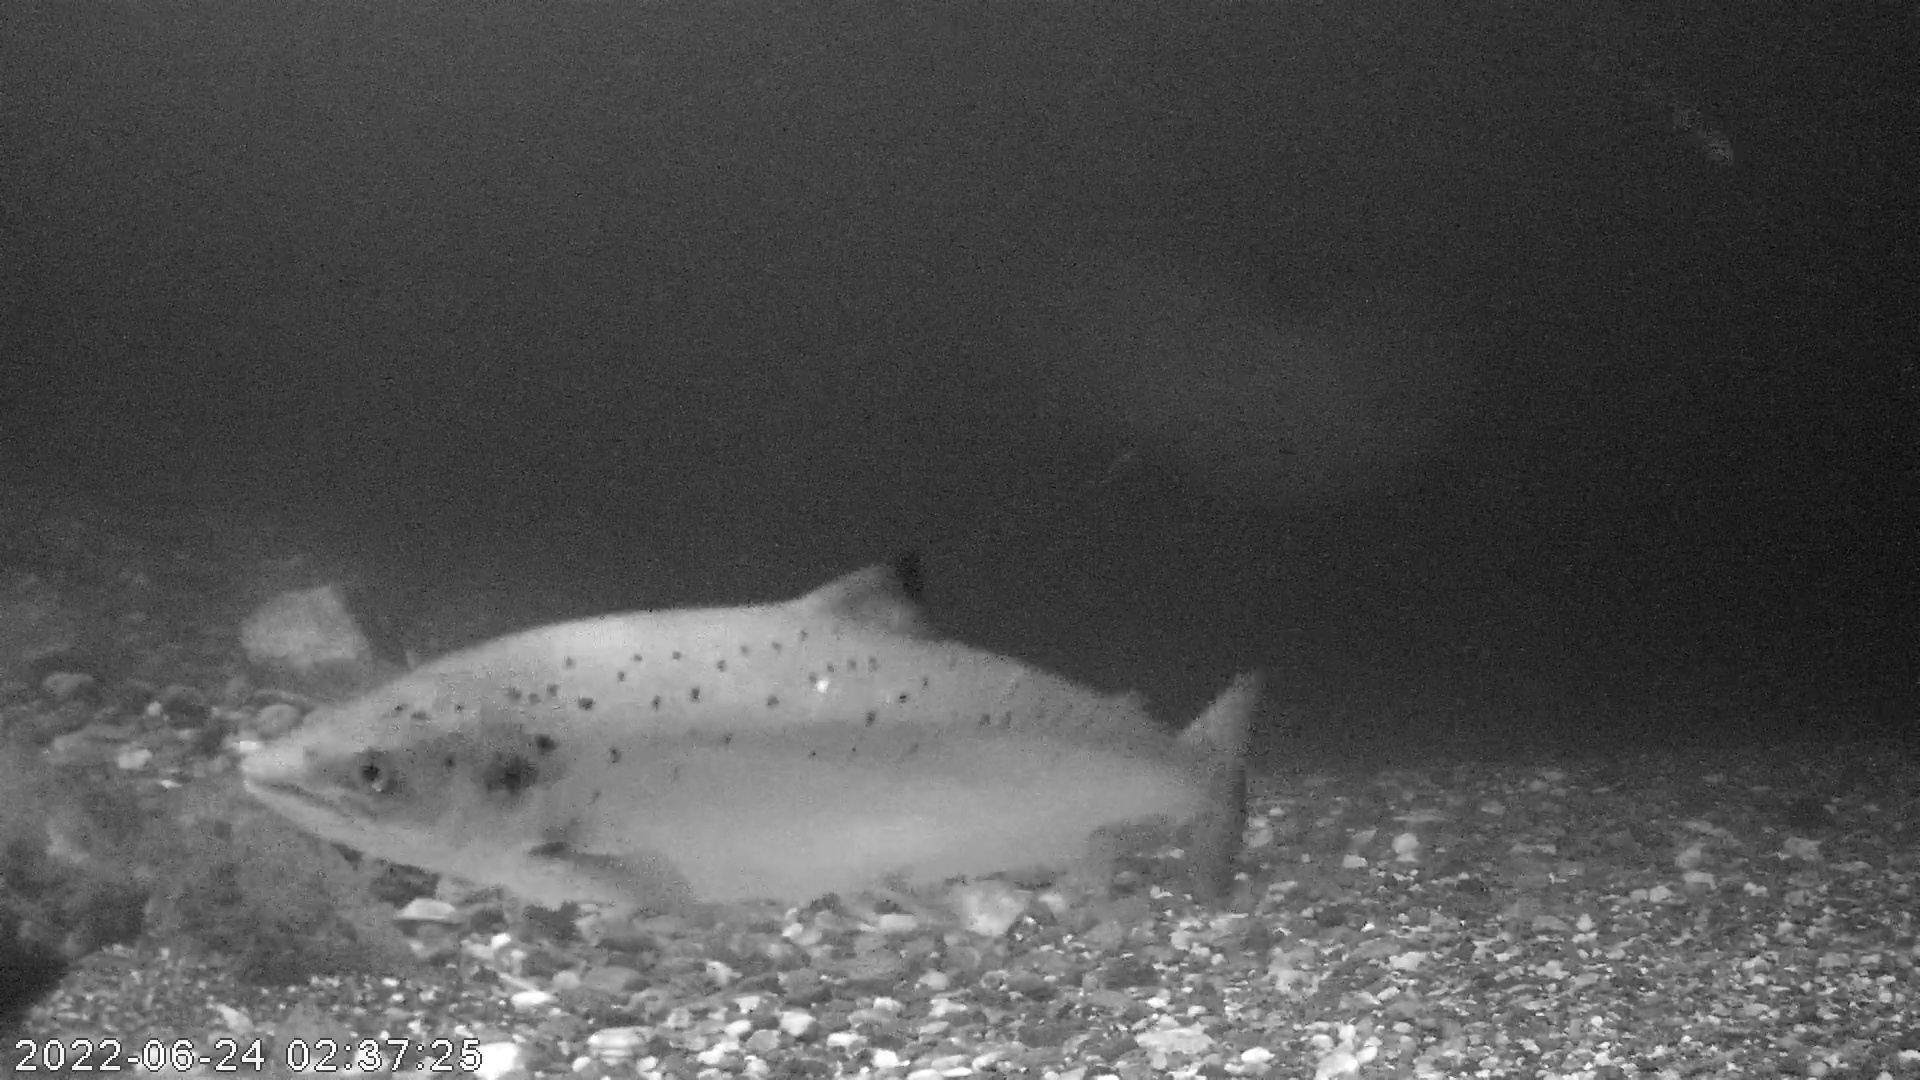salmon: (239, 549, 1275, 942)
